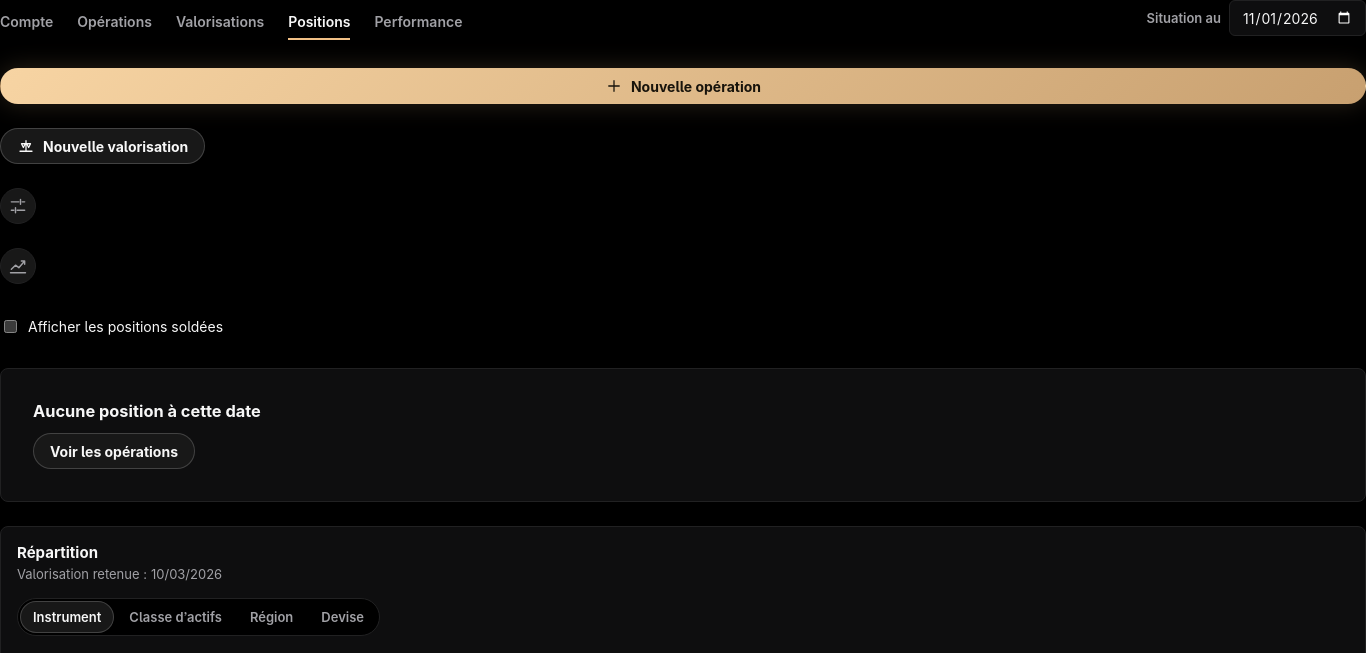
Test: PortfolioAccountPage › switches from the positions tab before opening the global create action
expect the heading "Aucune position à cette date" is shown: met, box [33,401,261,421]
What coordinates should you click on to do the following:
click the button "Nouvelle opération"
I would click on:
 (683, 86)
Its box is [0,68,1365,104].
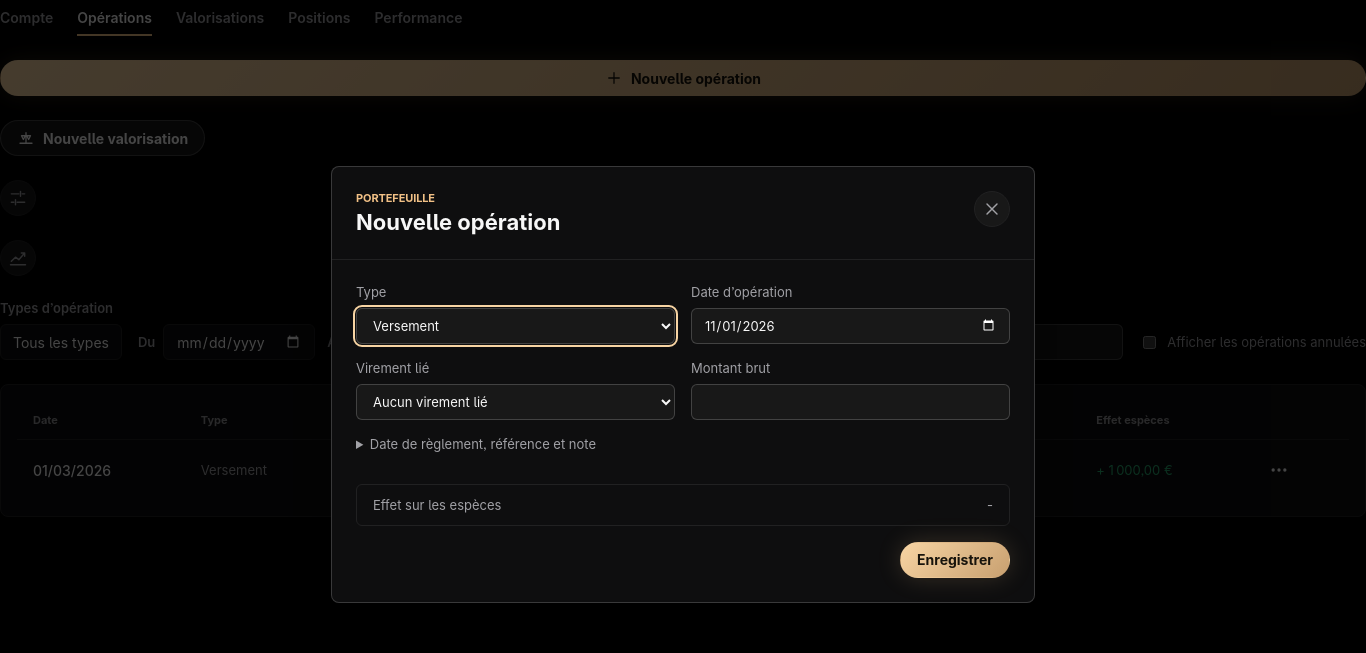
expect the dialog "Nouvelle opération" is shown: met, box [331,166,1035,602]
